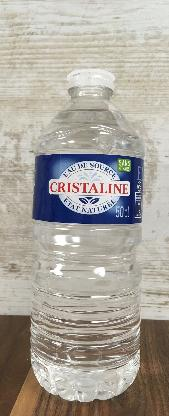Plastic Bottle: (30, 68, 146, 402)
